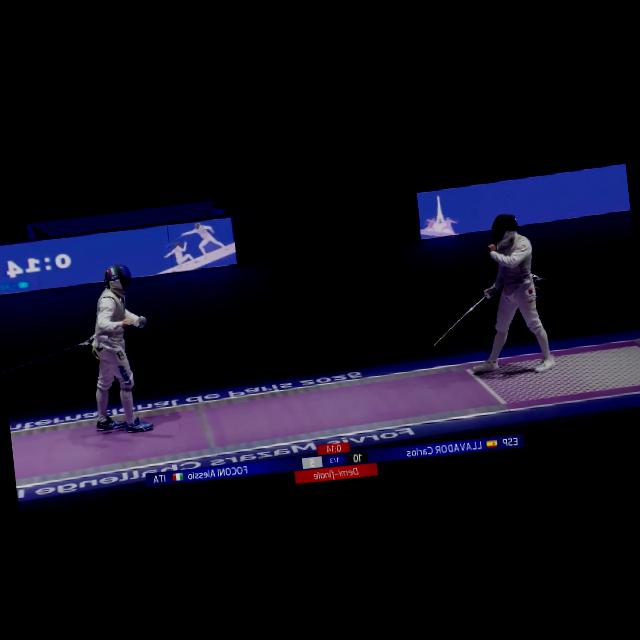blade: (425, 286, 498, 352)
